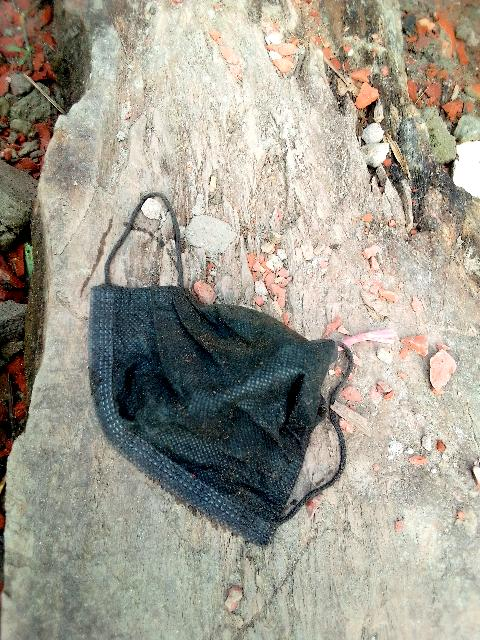mask: (85, 285, 333, 540)
